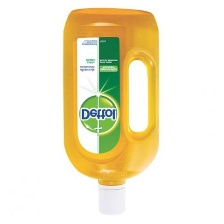cleaning_solution: (59, 5, 162, 218)
